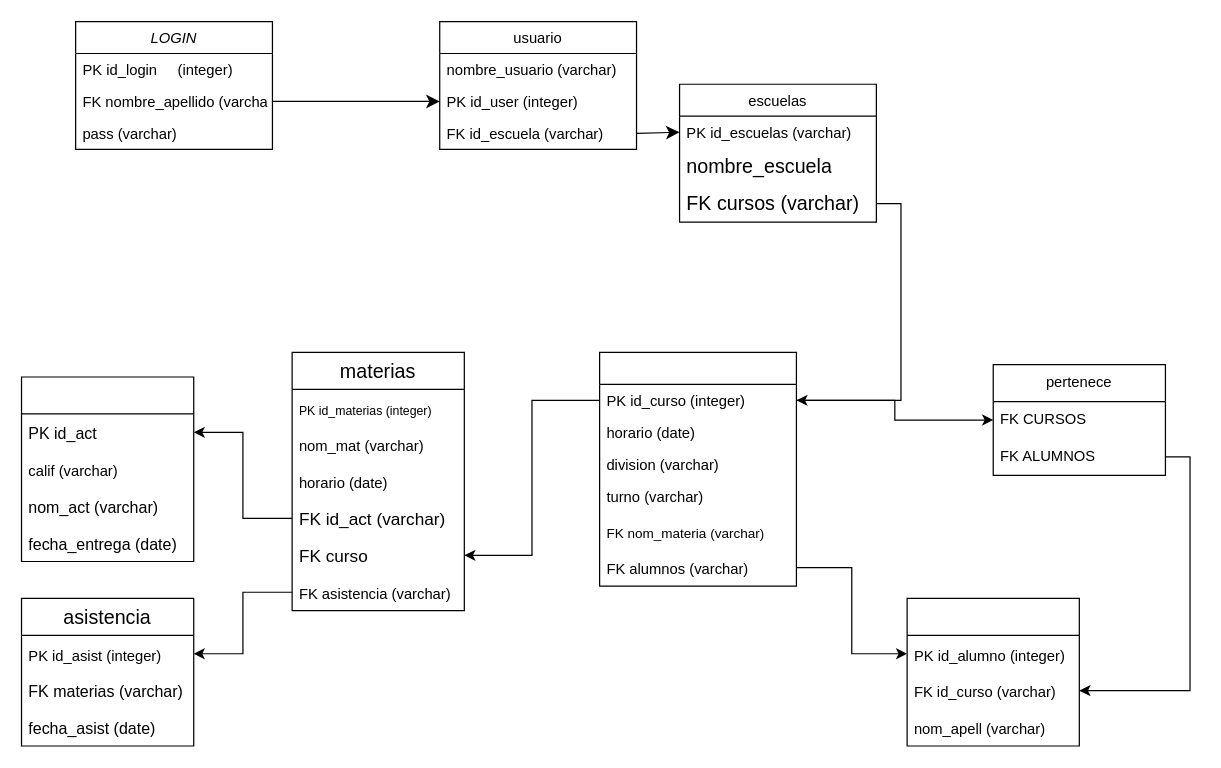
This 1221x768 diagram has some shape labels left out. The box of each missing label's shape, as (x1, y1, x2, y2) in pixels:
actividades: (20, 376, 194, 561)
alumnos: (906, 597, 1079, 746)
cursos: (598, 351, 796, 586)
